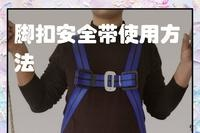safety belt: (59, 34, 157, 130)
